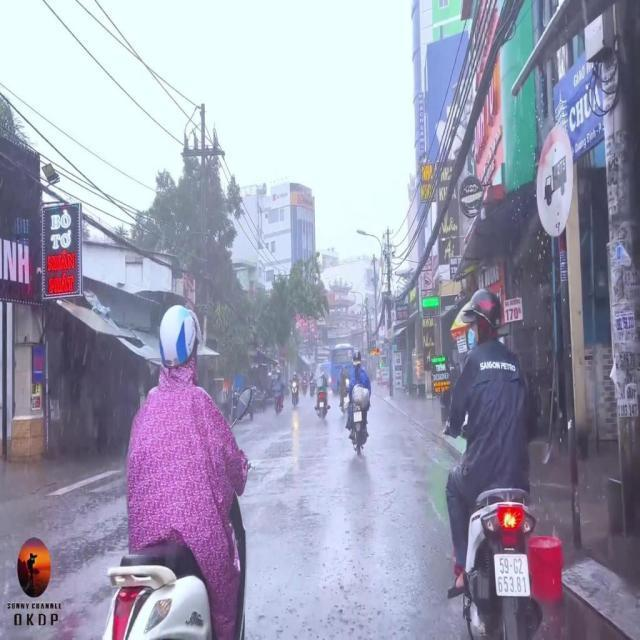106-cam-oto-tai: (536, 126, 572, 240)
